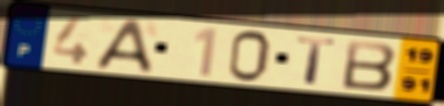0: (226, 29, 275, 83)
1: (193, 26, 220, 79)
4: (51, 14, 91, 68)
A: (92, 18, 156, 74)
B: (340, 38, 400, 92)
T: (295, 35, 340, 87)
